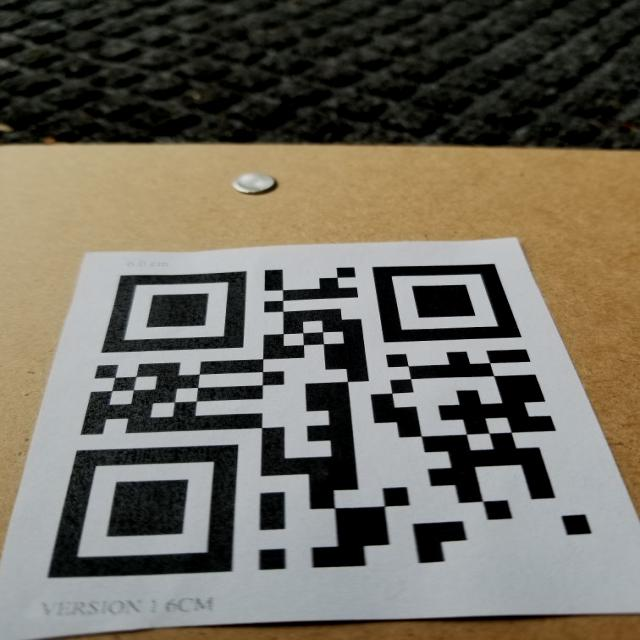QRCode: (29, 255, 616, 602)
